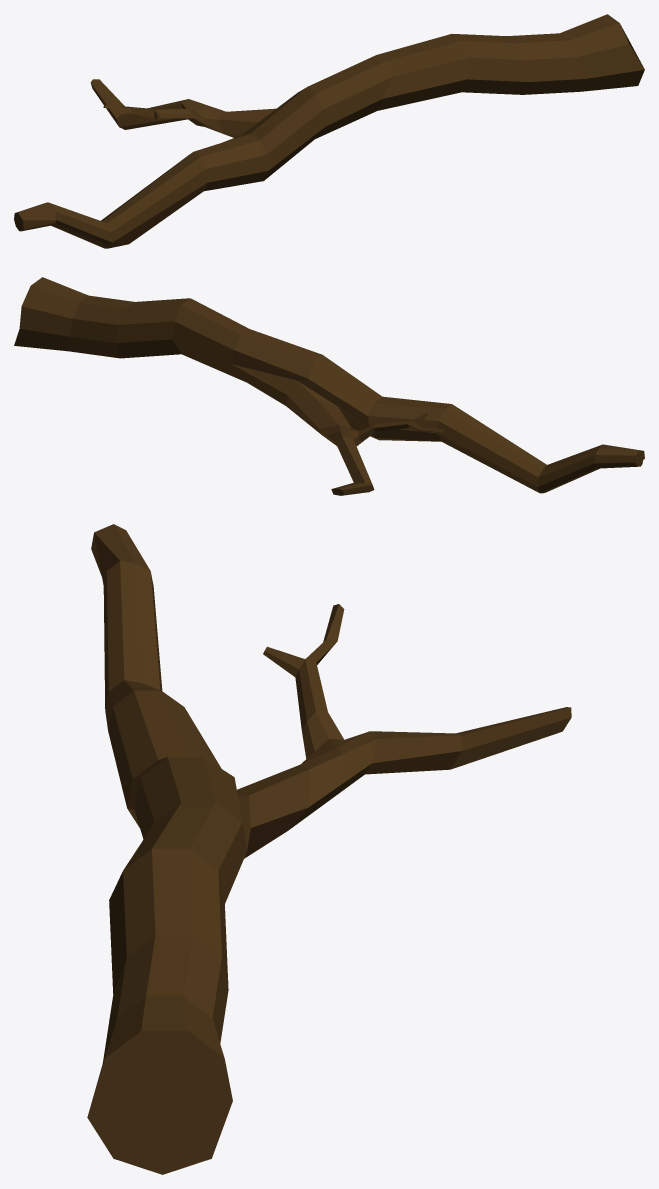
The model's file is branche1-path_of-matches.fbx.
The picture shows the model from 3 angles, top to bottom: view 1: azimuth 30°, elevation 25°; view 2: azimuth 150°, elevation 25°; view 3: azimuth 270°, elevation 25°; orthographic projection. The views are drawn at different scales.
Visible parts, largest first — view 1: Cylinder.002; view 2: Cylinder.002; view 3: Cylinder.002.
Boxes of the visible parts, x1,y1,x2,y2 form: Cylinder.002: [14, 14, 644, 248]; Cylinder.002: [14, 277, 644, 495]; Cylinder.002: [87, 524, 571, 1174].
Bounding box in the file's own units: 557 × 99.84 × 194.
